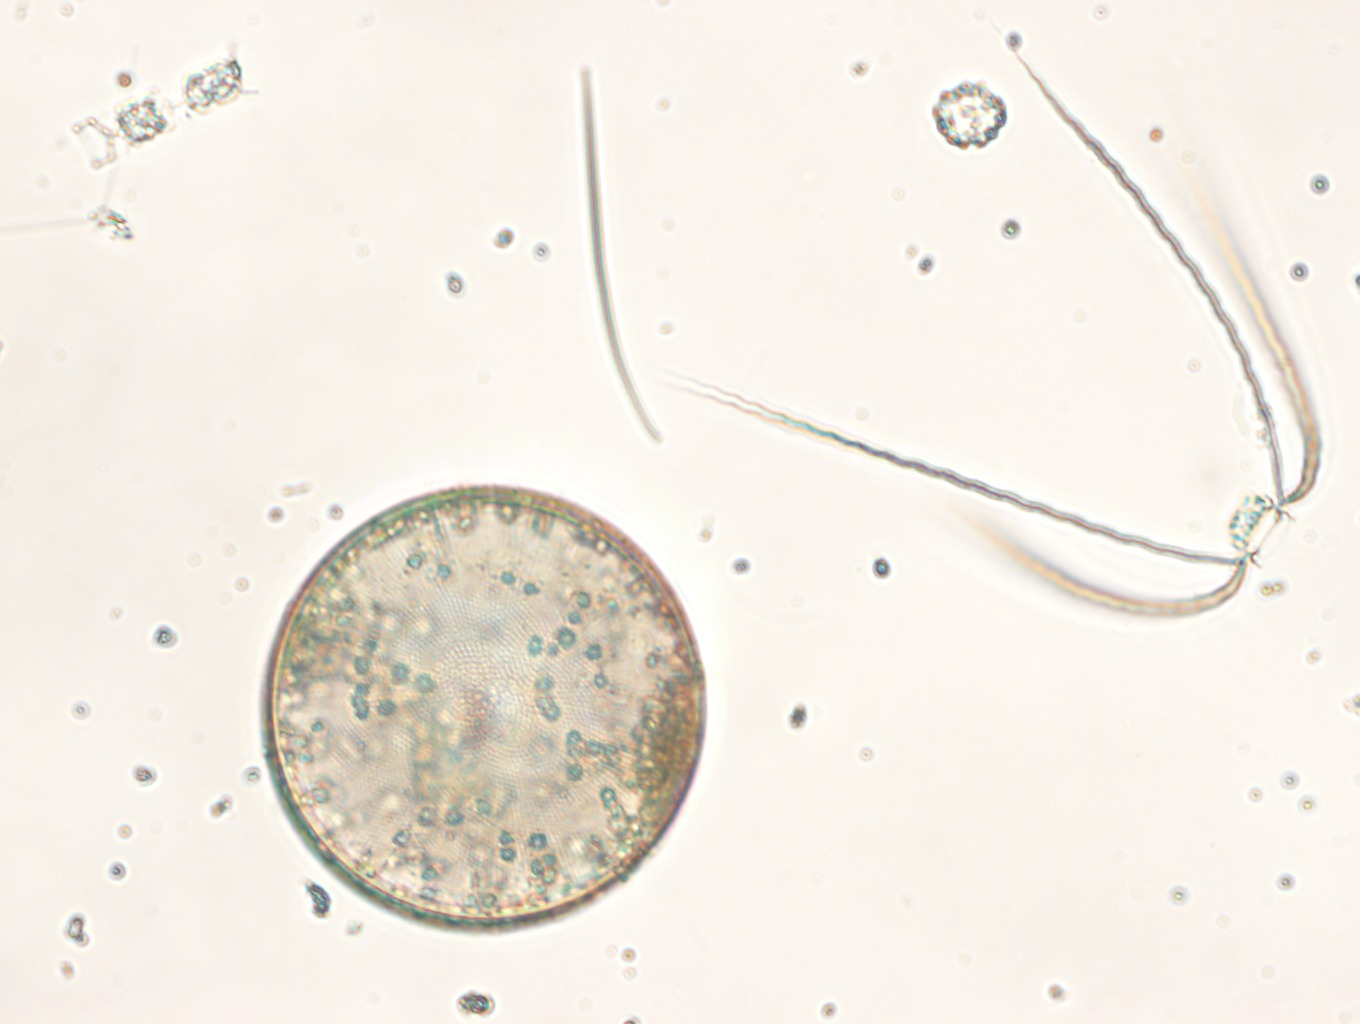chaetoceros: (656, 17, 1325, 617), (69, 56, 259, 170)
coscinodiscus: (259, 482, 708, 931)
